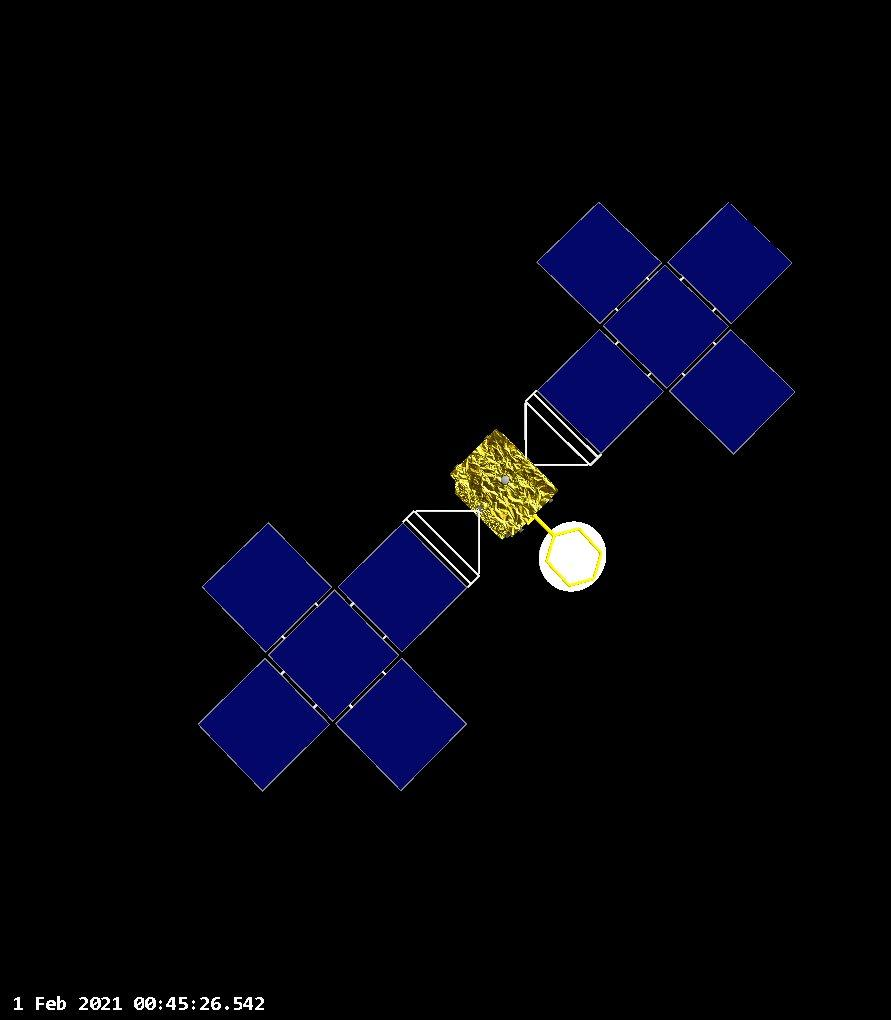antenna: (534, 517, 610, 593)
body: (444, 427, 555, 542)
solar: (266, 583, 404, 727), (194, 661, 337, 797), (335, 517, 472, 658), (597, 261, 736, 394), (199, 521, 333, 658), (334, 662, 467, 796), (669, 192, 796, 330), (536, 326, 667, 459), (529, 197, 665, 324), (671, 325, 799, 457)
